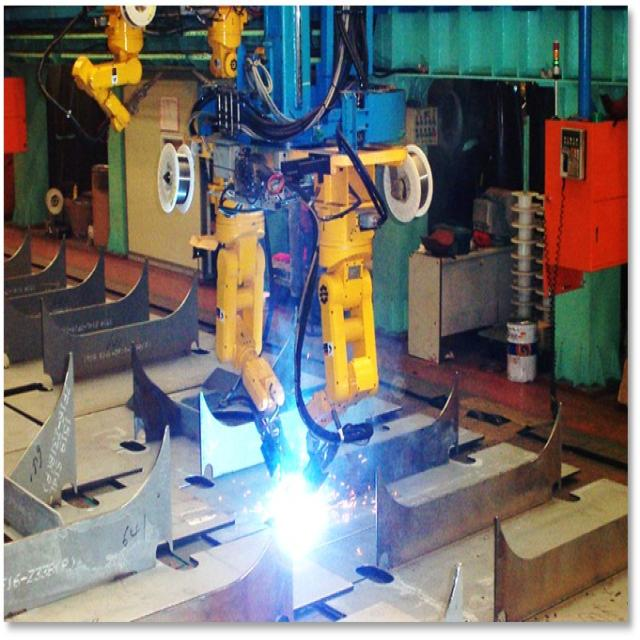welding: (274, 472, 332, 551)
